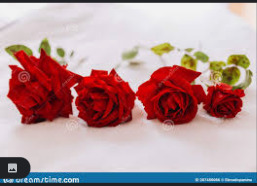RedRose: (135, 60, 204, 130), (75, 65, 138, 131), (204, 82, 247, 123)
